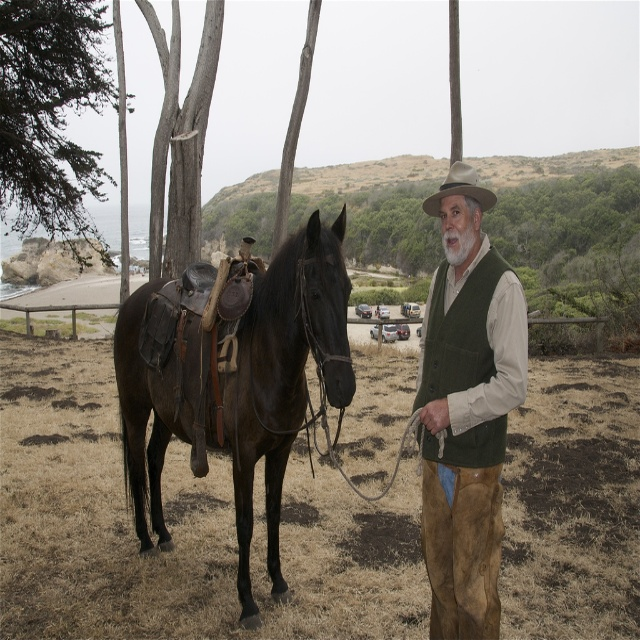Horse: (114, 203, 356, 632)
